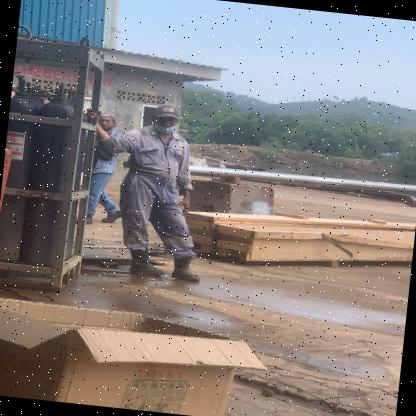bota: (126, 244, 166, 280), (170, 252, 202, 281), (76, 206, 94, 230), (102, 208, 124, 226)
